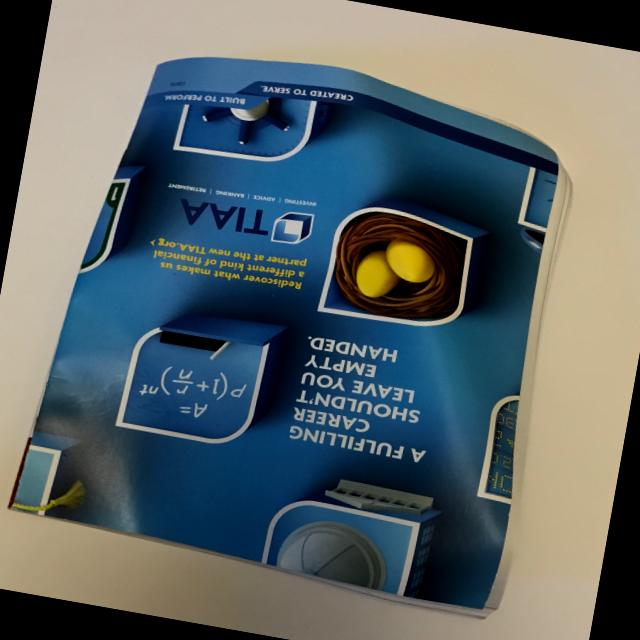Paper: (0, 14, 614, 640)
